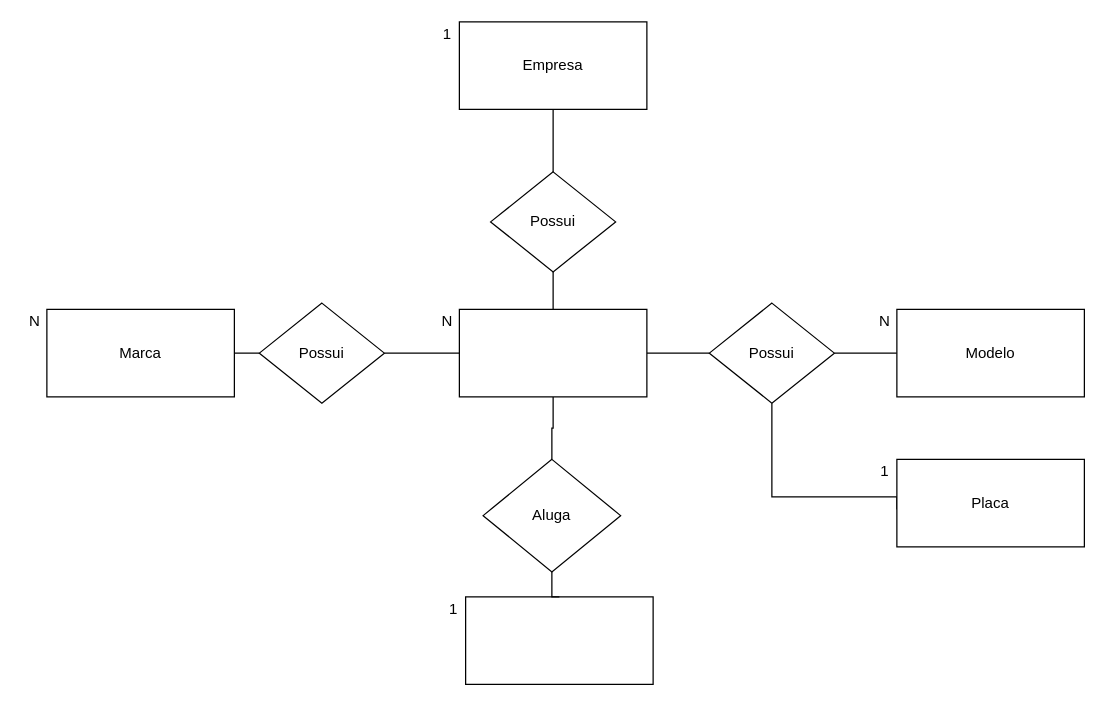
Image size: 1106x706. Some labels were removed from this diagram. The centre of each missing label's shape, as x and y in pixels:
"Cliente" belongs at point (558, 640).
"Veiculo" belongs at point (552, 352).
